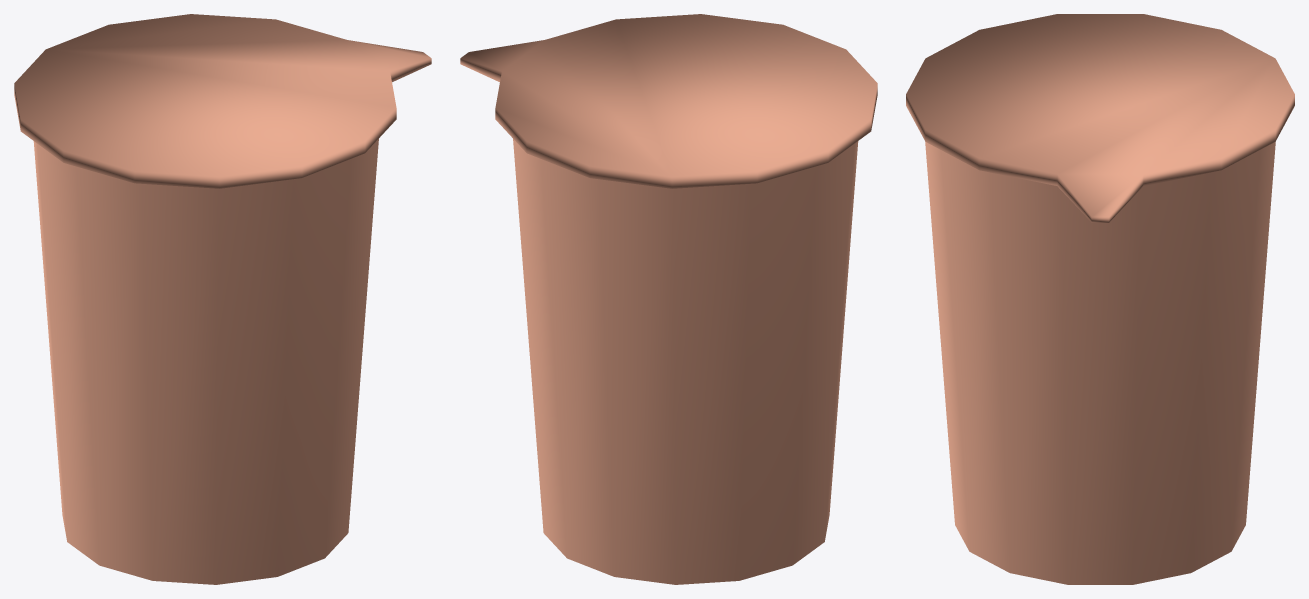
File: noodles_pollo.fbx
3 renders of one model, left to right at view 1: azimuth 30°, elevation 25°; view 2: azimuth 150°, elevation 25°; view 3: azimuth 270°, elevation 25°, orthographic.
Parts seen in each view (by area): view 1: pollo; view 2: pollo; view 3: pollo.
Part boxes in pixels (bbox=[...]): pollo: bbox=[14, 14, 431, 584]; pollo: bbox=[460, 14, 877, 584]; pollo: bbox=[906, 14, 1294, 584].
Size of the model in its own units: 152 by 162 by 132.
